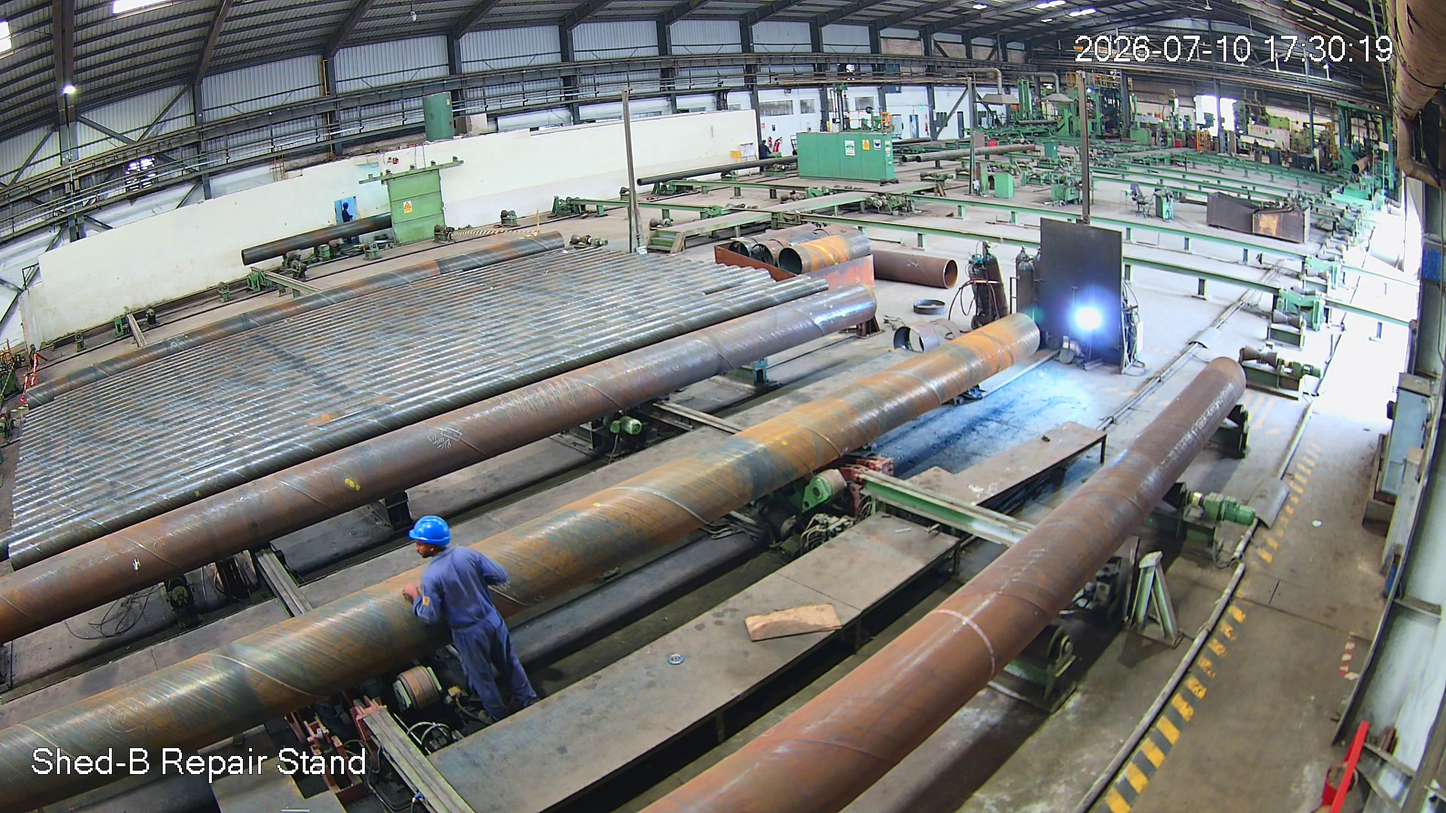Helmet: (402, 508, 471, 572)
Person: (407, 510, 535, 732)
